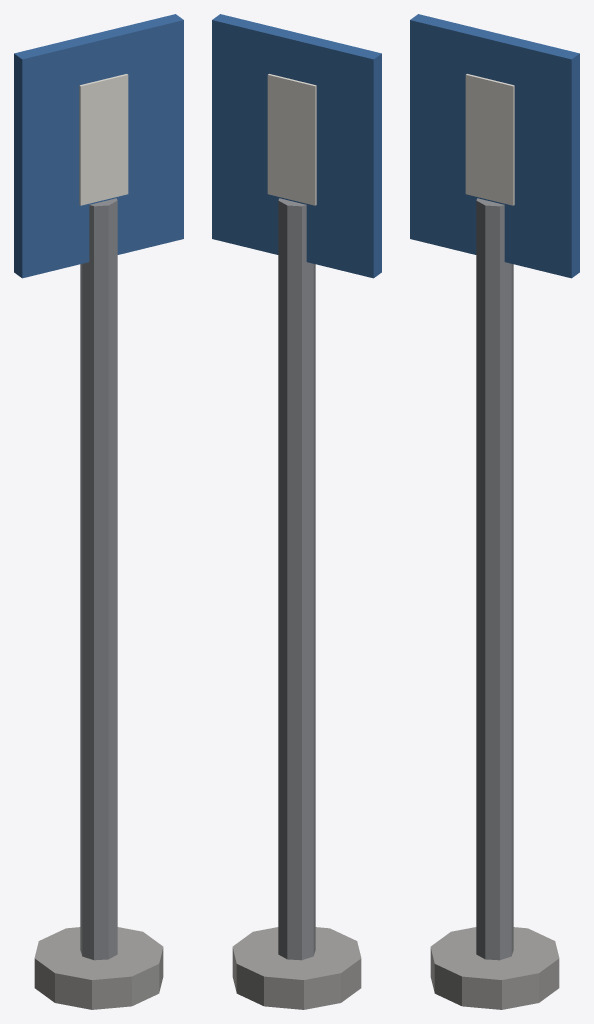
File: parking_sign.glb
The picture shows the model from 3 angles, left to right: view 1: azimuth 30°, elevation 25°; view 2: azimuth 150°, elevation 25°; view 3: azimuth 330°, elevation 25°; orthographic projection.
Parts seen in each view (by area): view 1: parking_sign; view 2: parking_sign; view 3: parking_sign.
Boxes of the visible parts, <box> form: parking_sign: <box>14,14,183,1009</box>; parking_sign: <box>212,14,381,1009</box>; parking_sign: <box>410,14,579,1009</box>.
Size of the model in its own units: 0.34 by 1.9 by 0.24.
